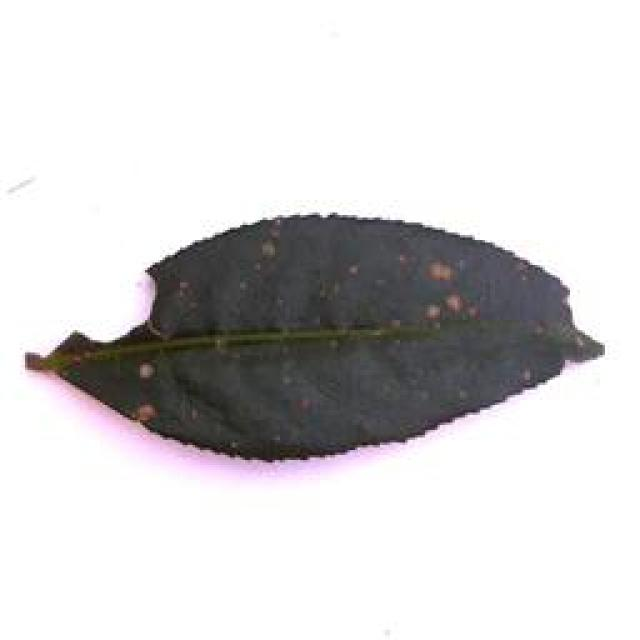Algal Leaf Spot: (22, 201, 622, 469)
